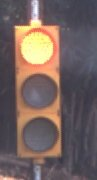Red: (6, 15, 72, 167)
